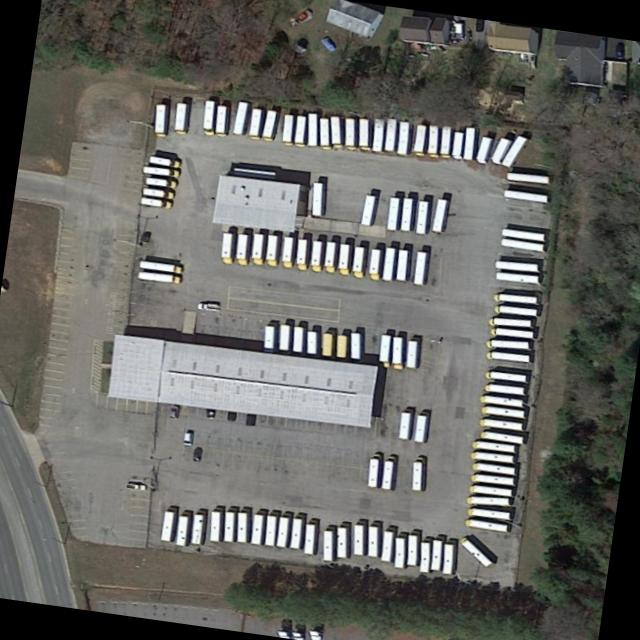large-vehicle: (459, 537, 494, 568), (501, 135, 529, 169), (380, 525, 399, 563), (160, 506, 179, 543), (380, 456, 399, 492), (139, 260, 184, 275), (442, 539, 460, 576), (480, 418, 524, 433), (473, 440, 517, 455), (289, 514, 307, 550), (190, 510, 208, 546), (501, 239, 546, 253), (466, 519, 508, 534), (480, 431, 525, 445), (303, 519, 320, 556), (175, 511, 192, 548), (486, 351, 530, 365), (480, 395, 524, 409), (481, 406, 525, 420), (473, 462, 517, 476), (276, 513, 293, 549), (250, 510, 267, 546), (492, 327, 535, 341), (468, 507, 511, 521), (412, 458, 429, 493), (491, 138, 513, 165), (504, 190, 549, 203), (502, 229, 547, 242), (426, 125, 443, 159), (367, 522, 383, 558), (368, 454, 384, 490), (414, 412, 432, 444), (138, 272, 182, 285), (469, 485, 513, 498), (432, 199, 448, 234), (495, 305, 538, 318), (471, 452, 514, 465), (471, 474, 514, 487), (322, 242, 340, 273), (265, 236, 283, 267), (407, 530, 422, 567), (486, 371, 528, 384), (249, 109, 266, 141), (413, 125, 430, 157), (337, 244, 354, 276), (430, 536, 445, 572), (210, 507, 225, 543), (493, 293, 538, 305), (233, 102, 249, 135), (264, 512, 279, 547), (337, 523, 351, 560), (323, 526, 337, 563), (507, 173, 550, 185), (496, 272, 539, 284), (487, 340, 530, 352), (310, 241, 326, 273), (295, 240, 311, 272), (281, 237, 297, 269), (251, 234, 267, 266), (235, 235, 251, 267), (220, 233, 236, 265), (394, 533, 408, 569), (237, 508, 251, 544), (223, 508, 237, 544), (489, 317, 531, 329), (369, 249, 385, 280), (293, 115, 308, 148), (330, 116, 345, 149), (358, 118, 373, 151), (439, 126, 454, 159), (352, 246, 367, 279), (382, 247, 396, 282), (354, 521, 368, 556), (175, 103, 190, 135), (399, 410, 415, 440), (486, 384, 526, 396), (400, 198, 414, 232), (392, 337, 406, 371), (467, 496, 510, 507), (362, 196, 377, 227), (149, 156, 182, 170), (345, 118, 359, 151), (397, 122, 411, 155), (387, 198, 401, 231), (204, 101, 217, 136), (414, 251, 427, 286), (155, 105, 169, 137), (372, 118, 385, 152), (416, 201, 429, 235), (264, 110, 278, 141), (217, 106, 231, 137), (476, 137, 492, 164), (420, 538, 432, 574), (311, 184, 324, 217), (143, 188, 175, 201), (464, 127, 476, 161), (143, 167, 180, 178), (396, 250, 409, 281), (496, 262, 539, 271), (141, 198, 173, 210), (320, 118, 332, 150), (385, 119, 397, 151), (379, 334, 392, 363), (145, 178, 179, 189), (307, 114, 318, 147), (283, 114, 294, 146), (292, 327, 305, 353), (453, 132, 465, 160), (279, 325, 291, 352), (407, 341, 418, 368), (321, 333, 333, 357), (336, 335, 348, 358), (351, 333, 361, 360), (264, 326, 275, 349), (307, 332, 318, 355)
small-vehicle: (245, 407, 258, 426), (227, 404, 238, 423), (197, 304, 222, 312), (206, 402, 217, 420), (193, 447, 204, 464), (183, 433, 194, 447), (171, 406, 180, 421), (617, 44, 624, 60)
